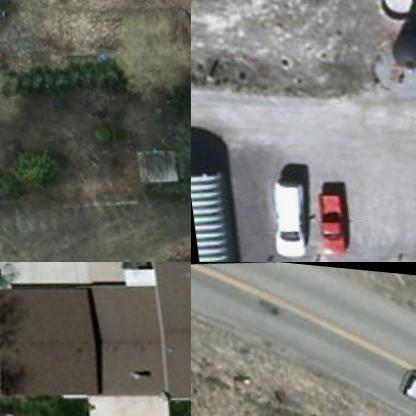car: (264, 174, 309, 258), (391, 349, 415, 415)
pickup: (315, 184, 346, 252)
